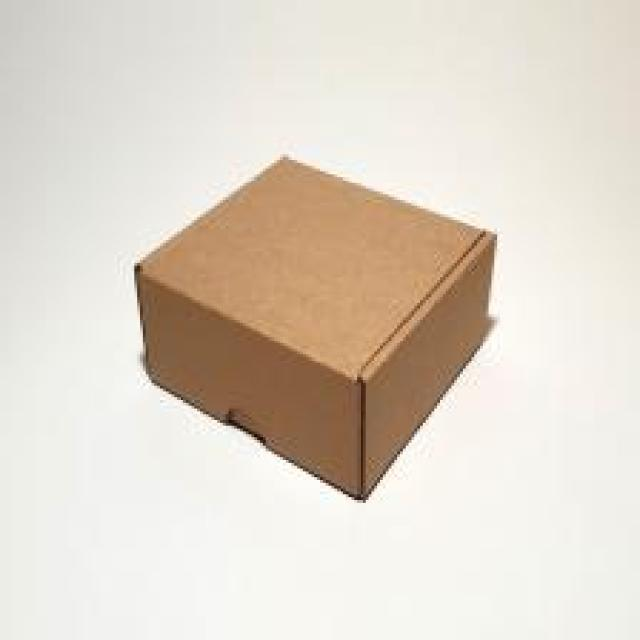box: (134, 153, 496, 502)
